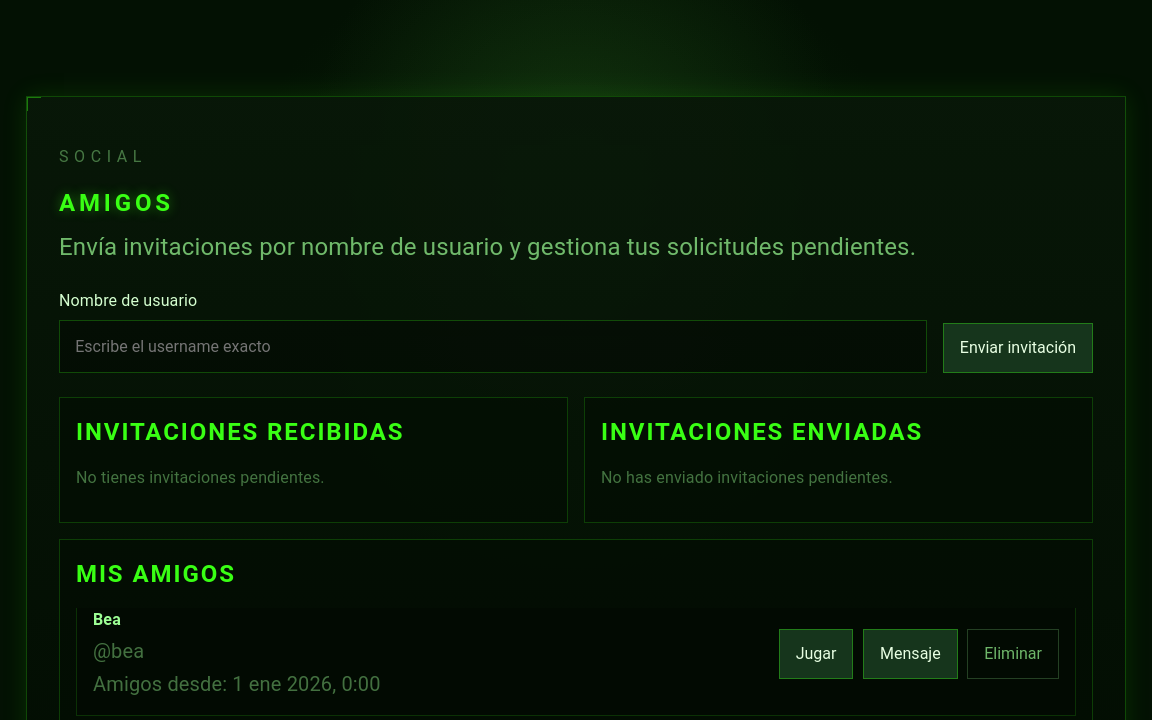
FriendsPage › removes a friend when the user confirms
This screenshot has width=1152, height=720.
Expected: the text "Bea" is shown, left=93, top=610, right=121, bottom=629
Click the button "Eliminar": (1013, 654) left=967, top=629, right=1059, bottom=679
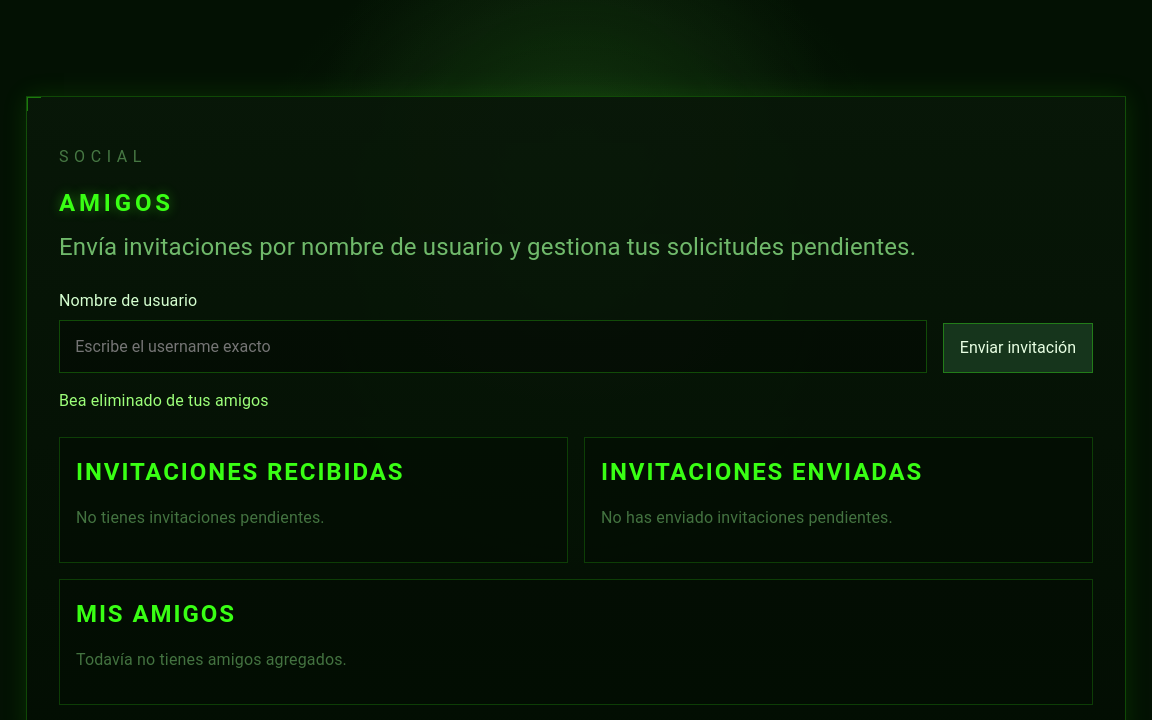
Expected: the text "Bea eliminado de tus amigos" is shown, left=59, top=391, right=269, bottom=410
